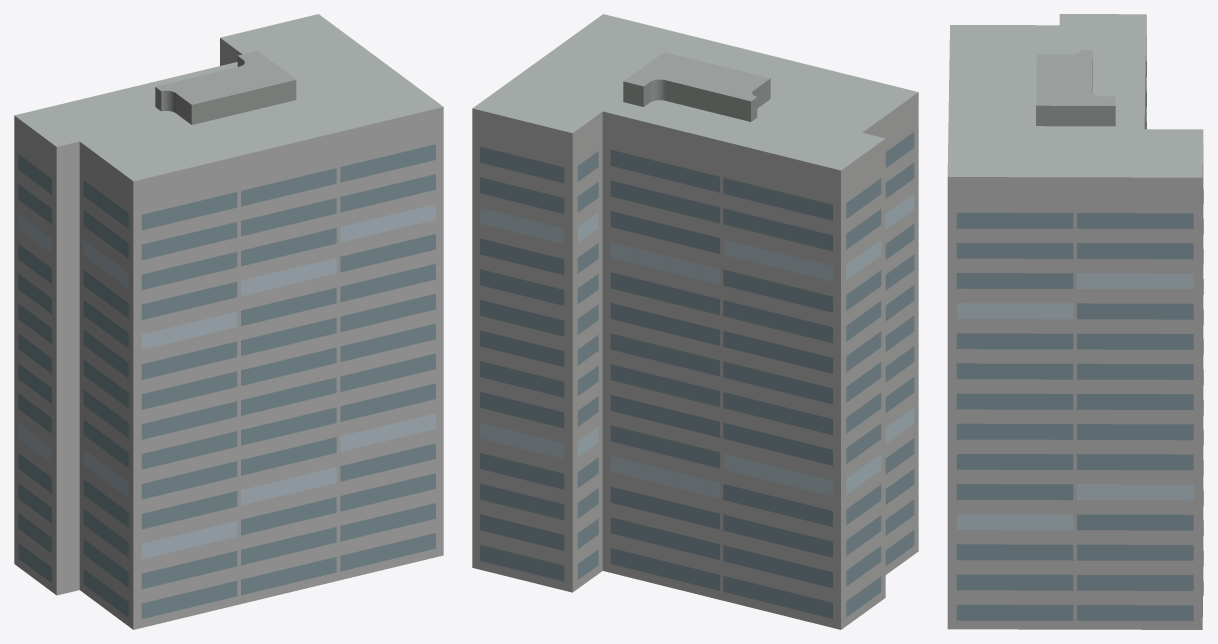
The model's file is apt-a13375907.glb.
3 views of the same model, side by side, from view 1: azimuth 30°, elevation 25°; view 2: azimuth 150°, elevation 25°; view 3: azimuth 270°, elevation 25° (orthographic). The views are drawn at different scales.
Parts seen in each view (by area): view 1: apt-a13375907; view 2: apt-a13375907; view 3: apt-a13375907.
Boxes of the visible parts, x1,y1,x2,y2 form: apt-a13375907: [14, 14, 443, 629]; apt-a13375907: [472, 14, 918, 629]; apt-a13375907: [947, 14, 1203, 629].
Bounding box in the file's own units: 35.59 × 47.81 × 23.52.
